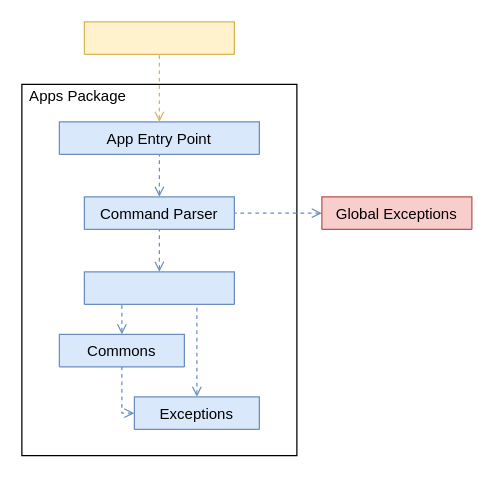
This 494x478 diagram has some shape labels left out. The shapes that lost their labels are listed below. From the top down, each one's box as (x1, y1, x2, y2) in pixels, then its label:
(83, 21, 234, 54): App Parser
(83, 271, 234, 304): Commands
